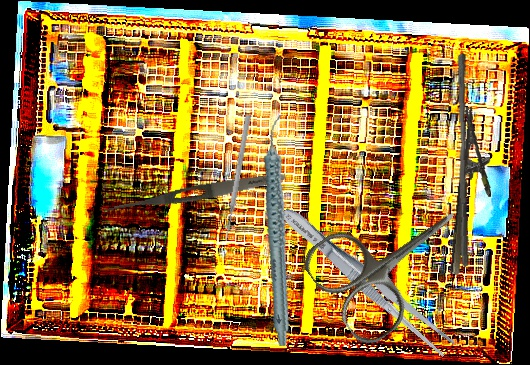Dressing Forceps: (275, 201, 458, 360), (101, 168, 287, 220)
Handpiece: (228, 113, 332, 348)
Iris Scissors: (297, 168, 488, 352)
Needle Holder: (448, 106, 500, 278)
Pusher: (449, 52, 478, 268), (221, 114, 253, 242)
